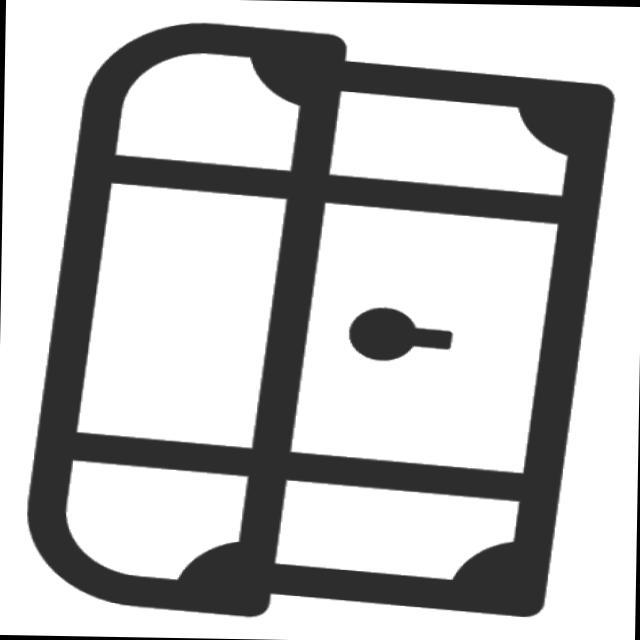treasure_box: (20, 11, 616, 629)
